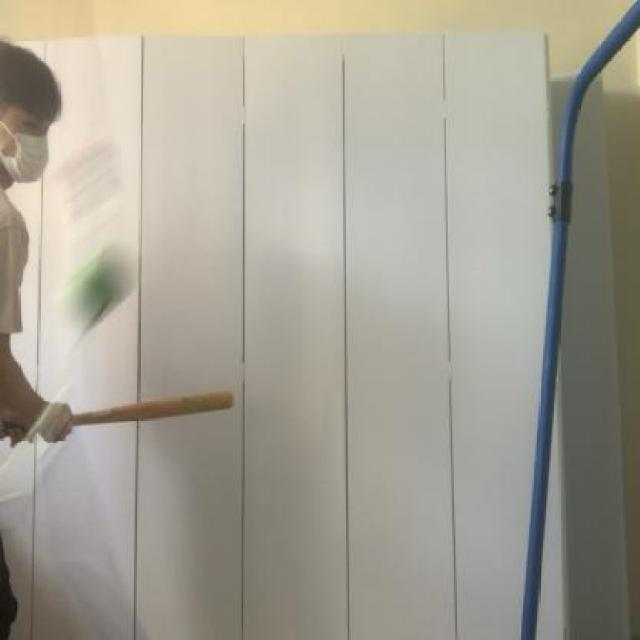baseball: (66, 235, 136, 338)
